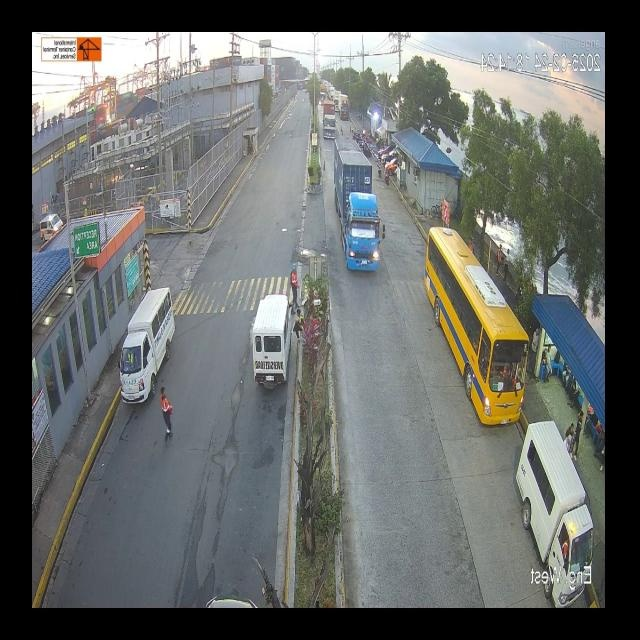bus: (422, 228, 526, 442)
car: (519, 444, 589, 600), (116, 272, 184, 415), (242, 286, 291, 414)
truck: (333, 134, 381, 292), (322, 97, 338, 141), (338, 89, 348, 126)
